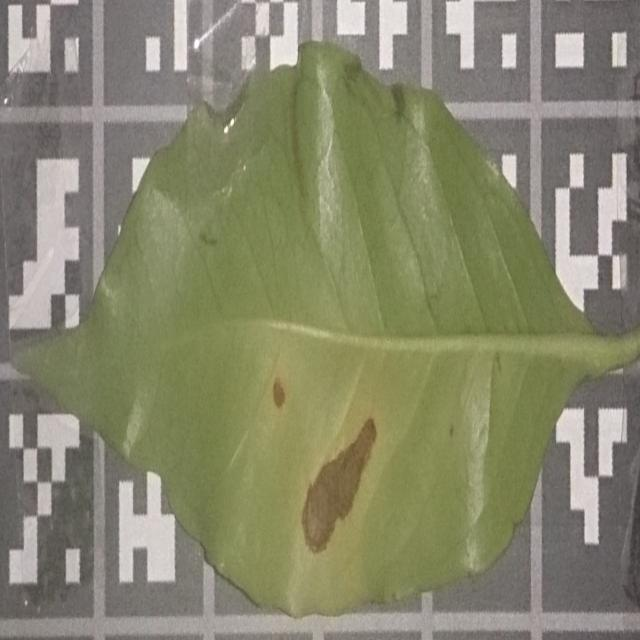Enfermedad-Mancha-de-hierro: (12, 43, 640, 620)
